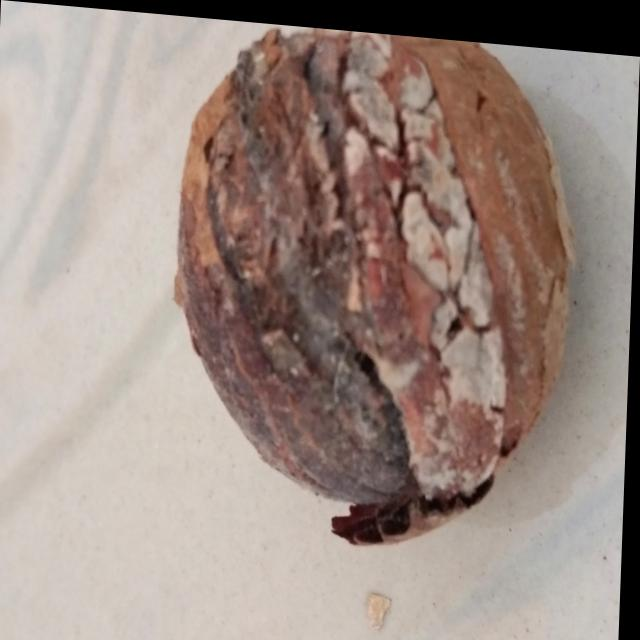karigot: (137, 11, 615, 593)
